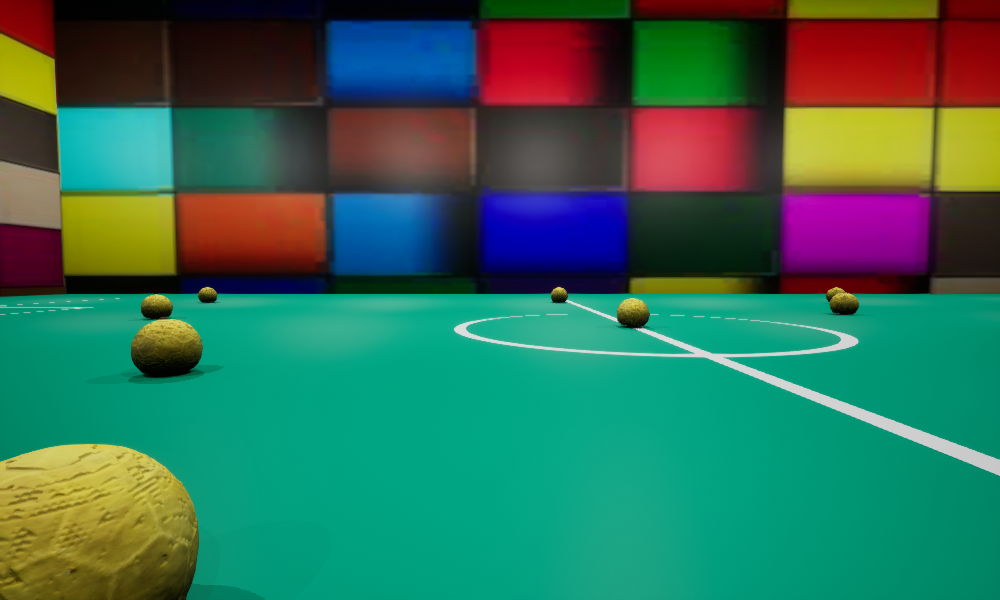b: (0, 444, 198, 599), (131, 319, 202, 375), (617, 298, 649, 326), (141, 294, 172, 318), (829, 293, 858, 314), (198, 287, 216, 302), (826, 287, 845, 301), (551, 287, 567, 302)
